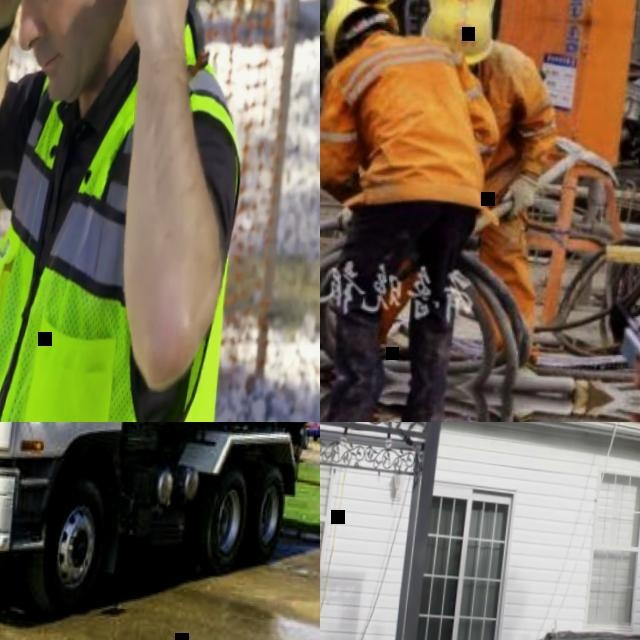Hardhat: (320, 0, 405, 60), (416, 5, 499, 66), (424, 0, 504, 15)
NO-Mask: (11, 0, 137, 110)
Person: (0, 0, 278, 422), (320, 0, 512, 422), (374, 10, 562, 369)
Safety Vest: (0, 0, 256, 422), (323, 30, 496, 212), (458, 45, 546, 201)
machinery: (0, 422, 320, 640)
vehicle: (306, 422, 320, 441)
